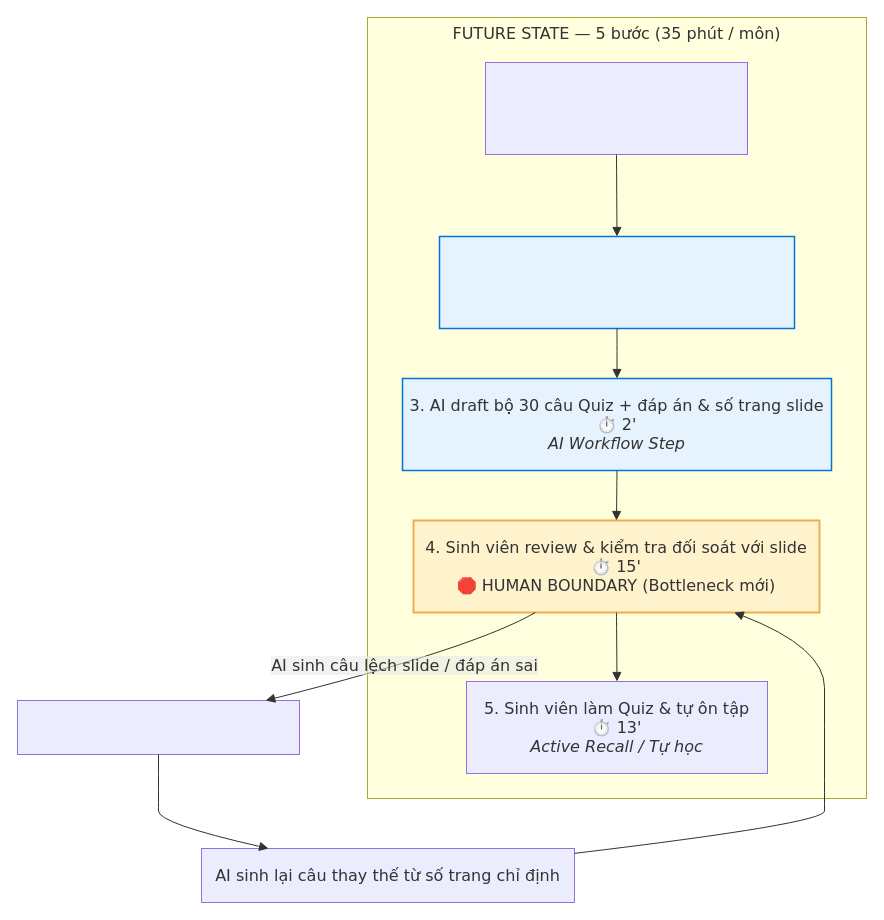
The diagram is 884 pixels wide and 920 high, and some of its shapes have lost their labels. The box of each missing label's shape, as (x1, y1, x2, y2) in pixels:
1. Upload slide PDF vào tool ⏱️ 2' Rule / PDF Parser: (484, 62, 748, 154)
2. AI phân tích & trích xuất key concepts ⏱️ 3' AI Workflow Step: (438, 235, 795, 329)
Sinh viên gắn cờ (Flag) câu hỏi: (16, 700, 300, 754)
